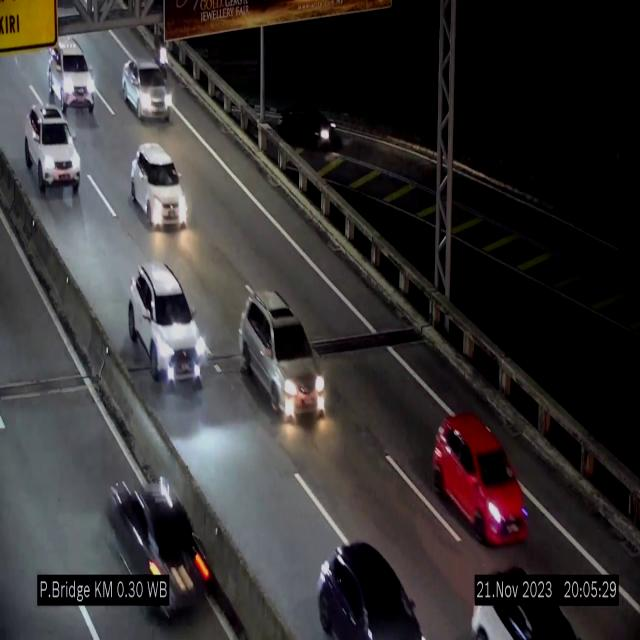Car: (110, 455, 221, 618), (309, 512, 426, 640), (432, 414, 532, 547), (240, 291, 326, 417), (128, 262, 208, 384), (459, 574, 583, 640), (25, 105, 81, 197), (131, 144, 187, 227), (49, 34, 97, 116), (275, 95, 339, 145), (122, 58, 170, 122)
Motorcycle: (152, 28, 170, 82)
